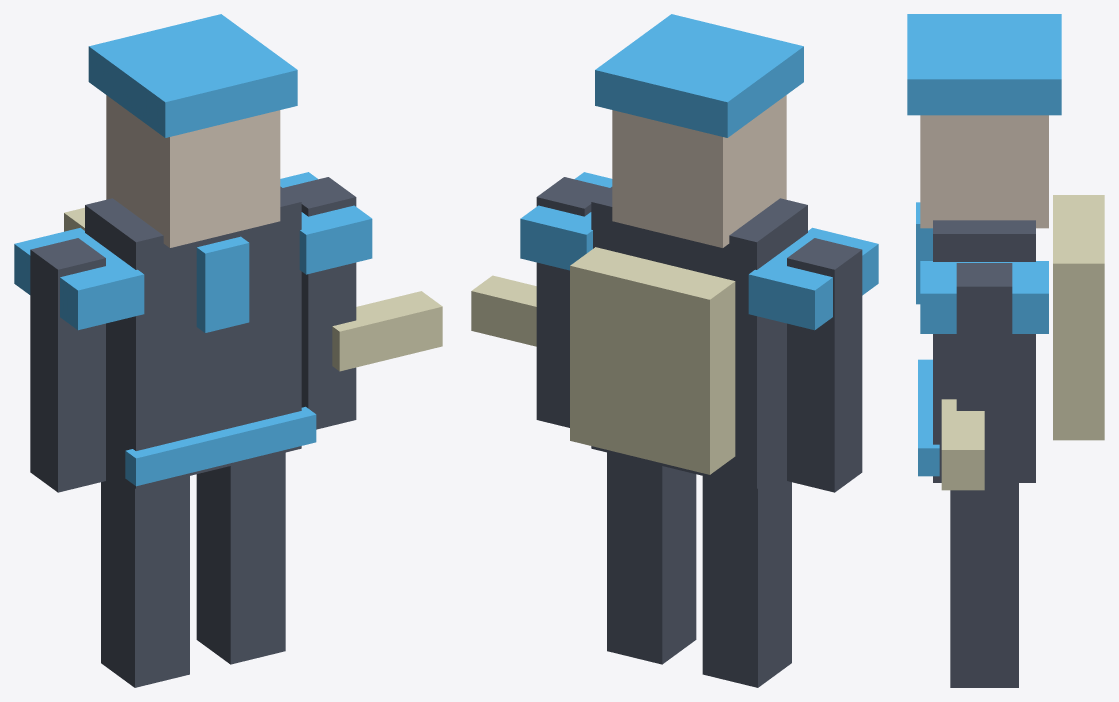
The model's file is 01_soren_ashvein_fixer_at_breach.glb.
3 renders of one model, left to right at view 1: azimuth 30°, elevation 25°; view 2: azimuth 150°, elevation 25°; view 3: azimuth 270°, elevation 25°, orthographic.
Parts seen in each view (by area): view 1: Soren Ashvein, Fixer at Breach; view 2: Soren Ashvein, Fixer at Breach; view 3: Soren Ashvein, Fixer at Breach.
Boxes of the visible parts, left/top/right/bottom form: Soren Ashvein, Fixer at Breach: left=14, top=14, right=442, bottom=687; Soren Ashvein, Fixer at Breach: left=471, top=14, right=878, bottom=687; Soren Ashvein, Fixer at Breach: left=907, top=14, right=1104, bottom=687.
Size of the model in its own units: 0.9584 by 1.45 by 0.4301.
